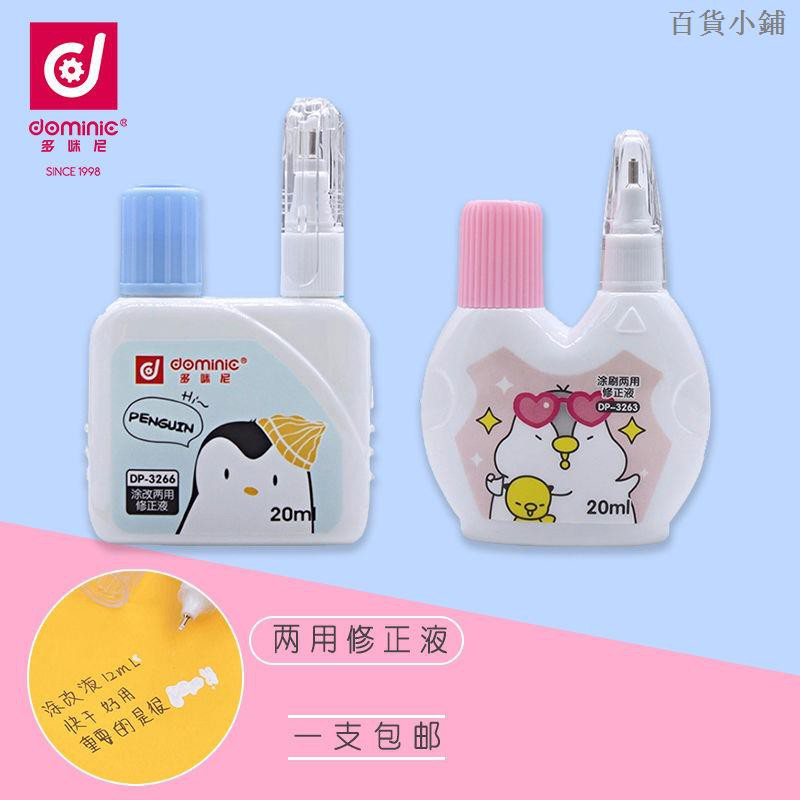Correction_fluid: (76, 92, 383, 562), (407, 117, 726, 564)
